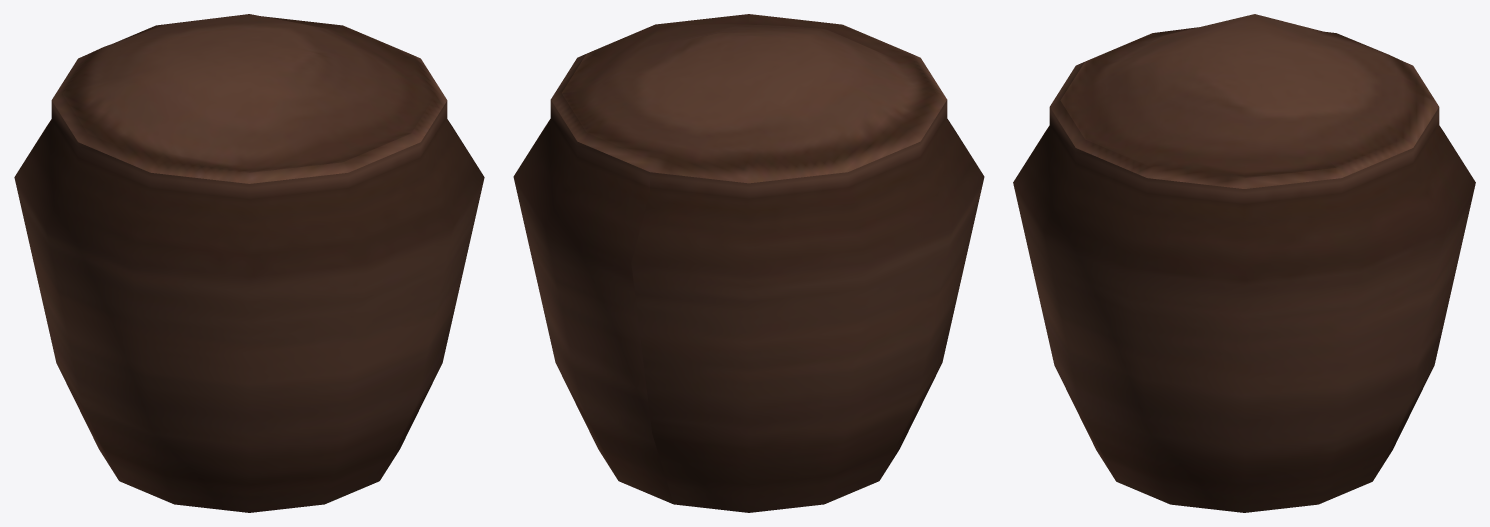
File: ClayPot02_Geo.fbx
3 renders of one model, left to right at view 1: azimuth 30°, elevation 25°; view 2: azimuth 150°, elevation 25°; view 3: azimuth 270°, elevation 25°, orthographic.
Visible parts, largest first — view 1: ClayPot02_Geo; view 2: ClayPot02_Geo; view 3: ClayPot02_Geo.
Boxes of the visible parts, x1,y1,x2,y2 form: ClayPot02_Geo: [14, 14, 484, 512]; ClayPot02_Geo: [513, 14, 984, 512]; ClayPot02_Geo: [1013, 14, 1475, 512].
Bounding box in the file's own units: 43.75 × 40.52 × 43.75.
